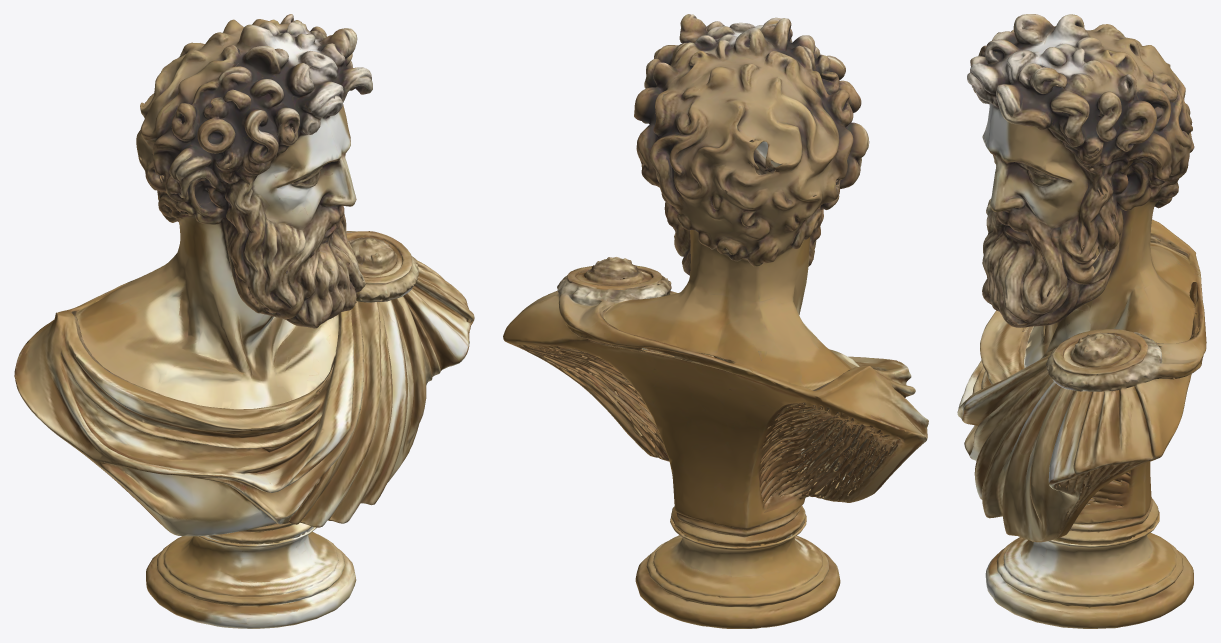
The model's file is plato.glb.
The picture shows the model from 3 angles, left to right: view 1: azimuth 30°, elevation 25°; view 2: azimuth 150°, elevation 25°; view 3: azimuth 270°, elevation 25°; orthographic projection. The views are drawn at different scales.
Visible parts, largest first — view 1: geometry_0; view 2: geometry_0; view 3: geometry_0.
Boxes of the visible parts, x1,y1,x2,y2 form: geometry_0: (14,14,474,628); geometry_0: (503,14,928,628); geometry_0: (957,14,1206,628).
Bounding box in the file's own units: 0.7835 × 1 × 0.397.
Materials: 1 (1 with a texture image).
